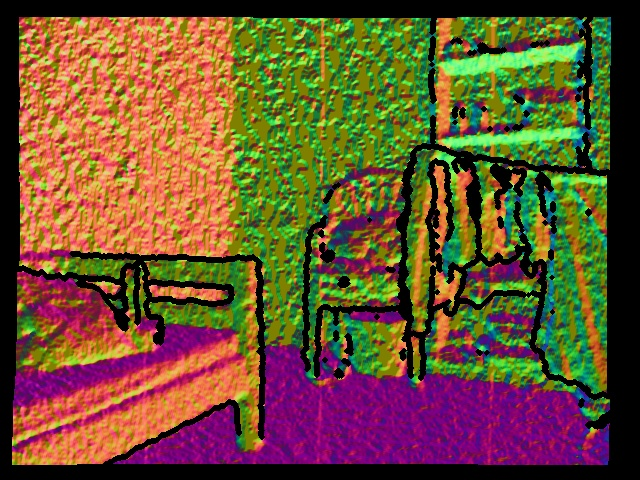station: (118, 262, 162, 351)
